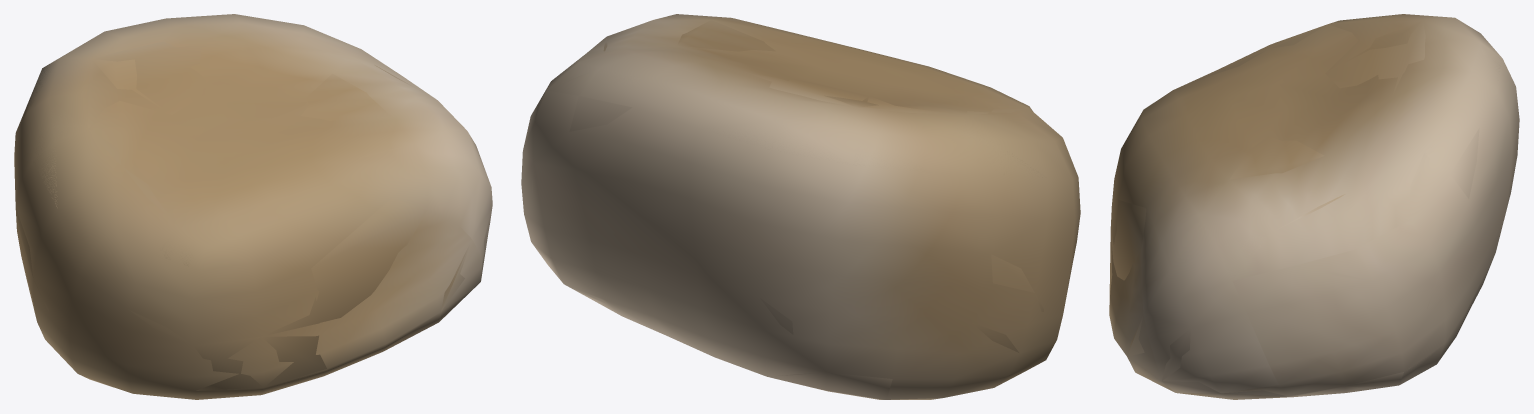
The model's file is R tarsi primum et secundum.fbx.
3 views of the same model, side by side, from view 1: azimuth 30°, elevation 25°; view 2: azimuth 150°, elevation 25°; view 3: azimuth 270°, elevation 25° (orthographic). The views are drawn at different scales.
Visible parts, largest first — view 1: R tarsi primum et secundum, R tarsi primum et secundum low; view 2: R tarsi primum et secundum, R tarsi primum et secundum low; view 3: R tarsi primum et secundum, R tarsi primum et secundum low.
Part boxes in pixels (x1,y1,x2,y2): R tarsi primum et secundum: (14, 14, 492, 399); R tarsi primum et secundum low: (16, 41, 492, 393); R tarsi primum et secundum: (521, 14, 1080, 399); R tarsi primum et secundum low: (532, 16, 1043, 399); R tarsi primum et secundum: (1109, 14, 1519, 396); R tarsi primum et secundum low: (1109, 14, 1502, 399).
Bounding box in the file's own units: 3.88 × 2.32 × 3.07.
